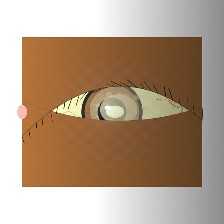corneal_ulcer: (88, 85, 149, 134)
